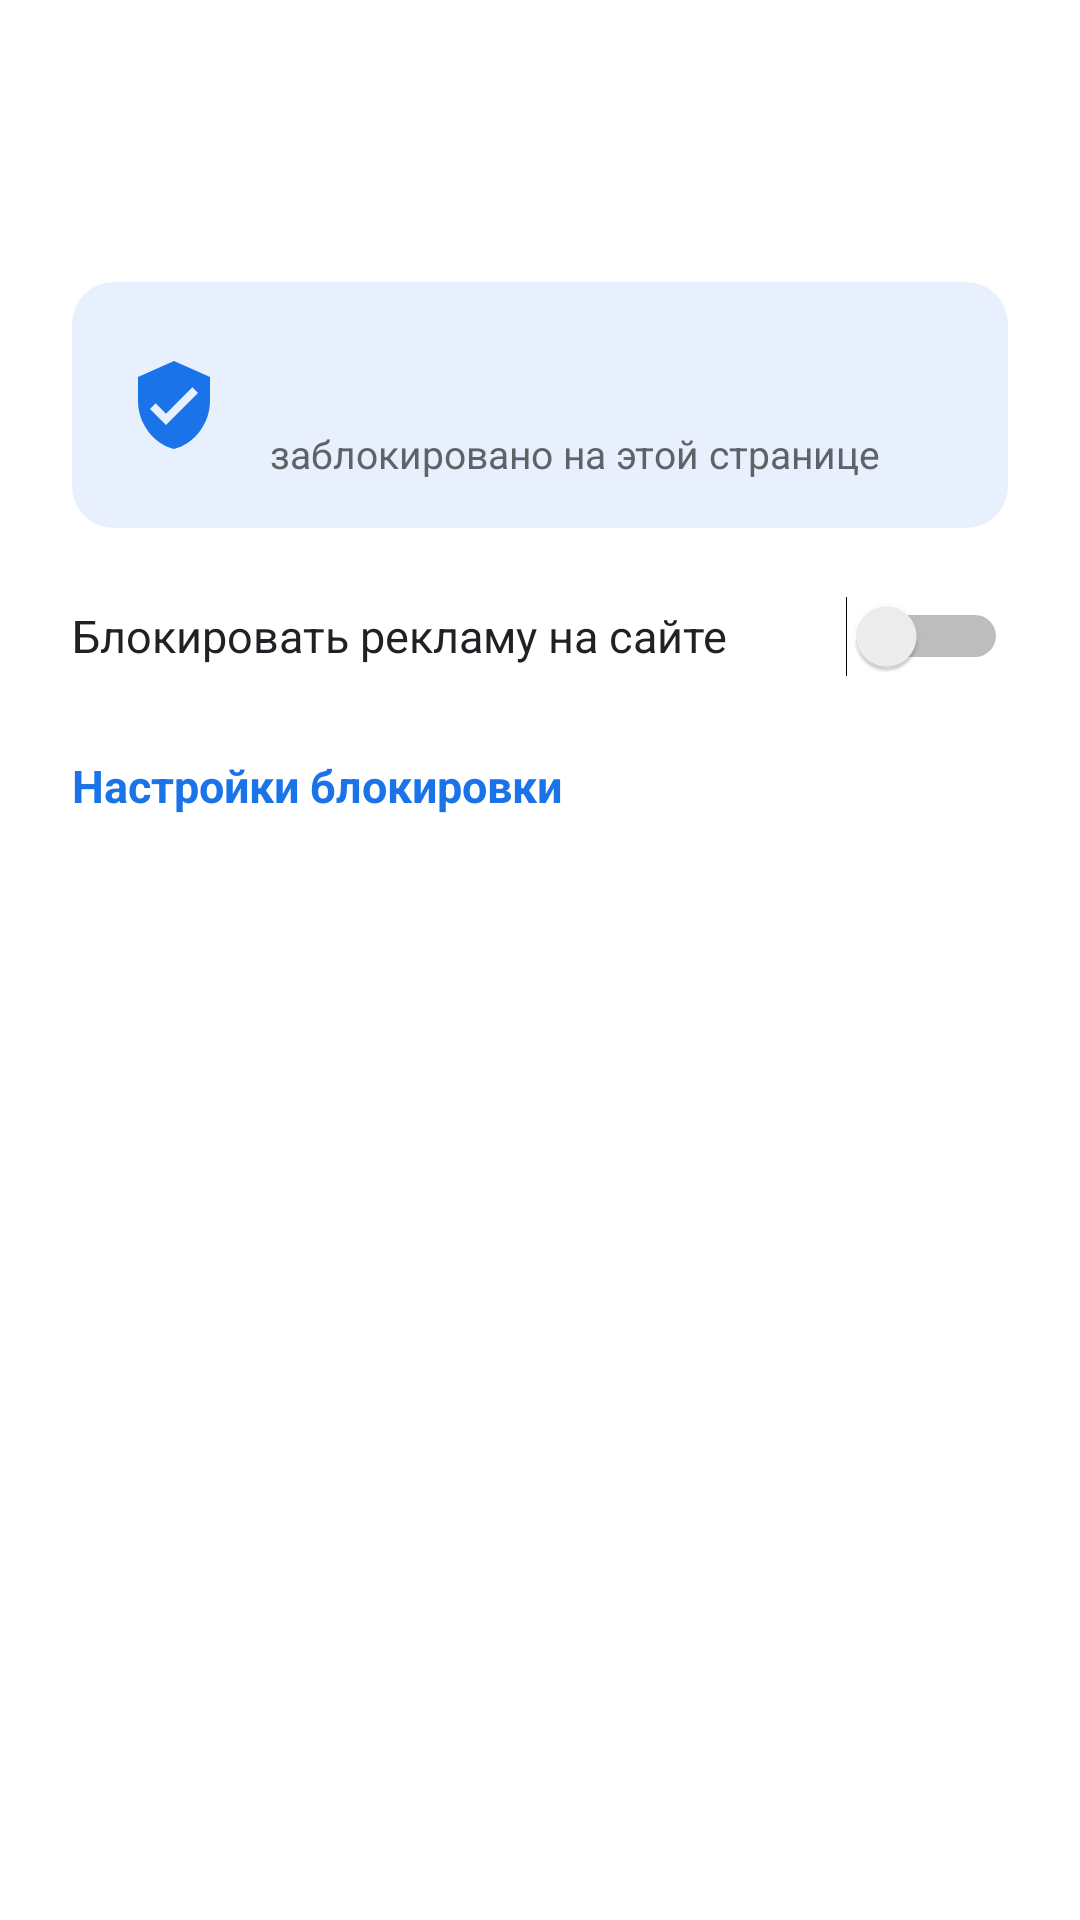

Named icons in this screenshot (1080*1920) and their bounding boxes, (x1, y1, x2, y2):
shield: (138, 361, 210, 449)
